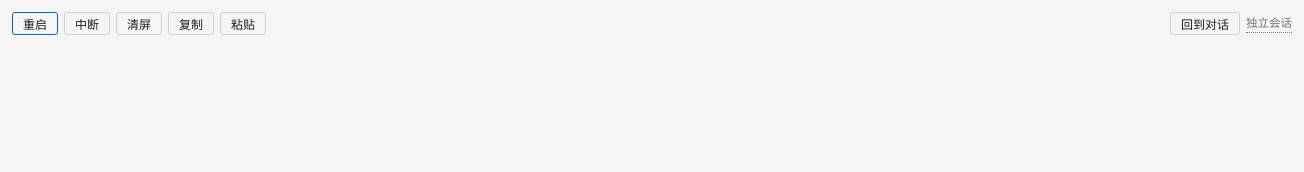
Test: 终端面板 › 没有选中内容时复制给出提示而不是静默
Click the button "复制": click(191, 24) x1=168 y1=12 x2=214 y2=35
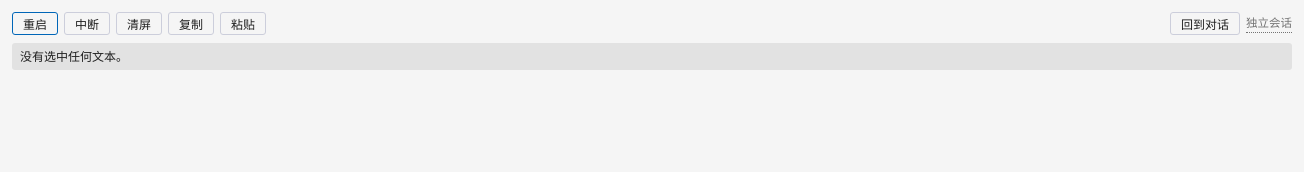
Expected: the text "没有选中" is shown, x1=20 y1=48 x2=128 y2=65
